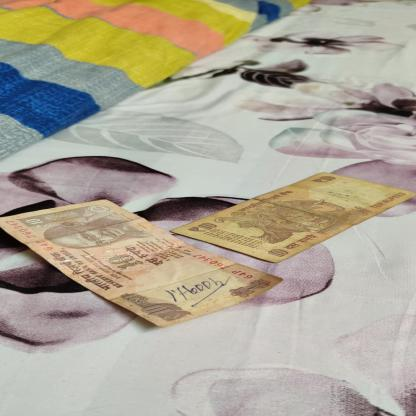Old10Back: (170, 171, 415, 265)
Old10Front: (0, 198, 286, 329)
